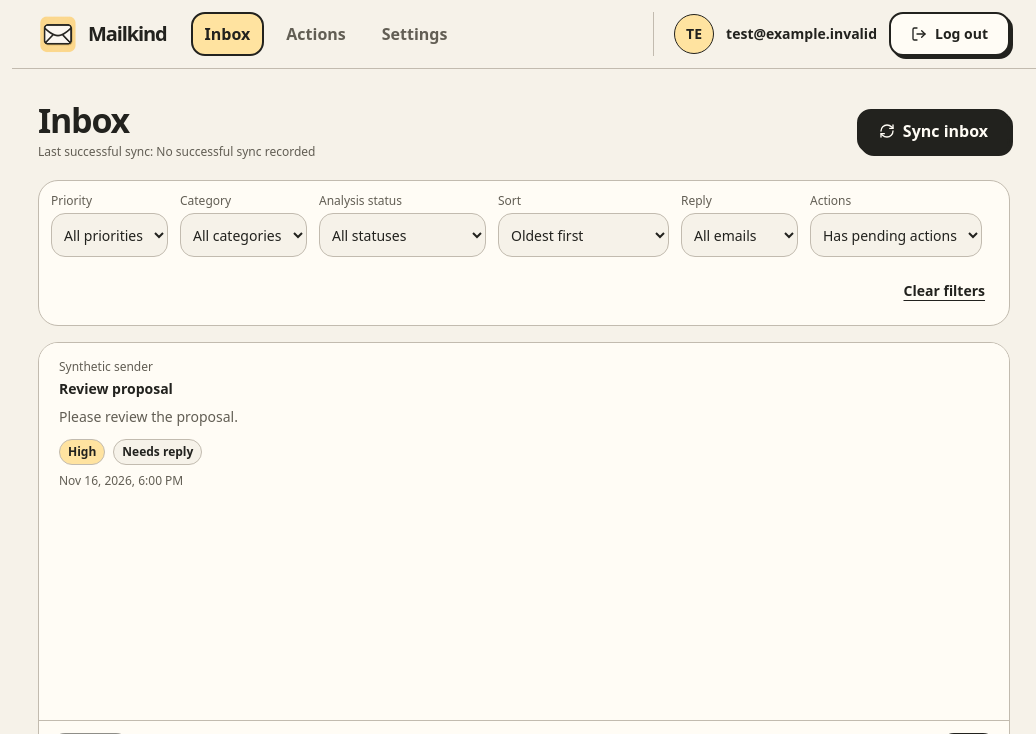
Test: preserves the pending action filter across other filters and pagination, then clears it
This screenshot has width=1036, height=734.
Expected: the text "Review proposal" is shown, [59,380,173,398]
Expected: the dropdown labelled "Actions" shows "Has pending actions", [810,214,982,258]
Select "Work" in the dropdown labelled "Category" at (244, 236), box [180,214,307,258]
(page scrolled)
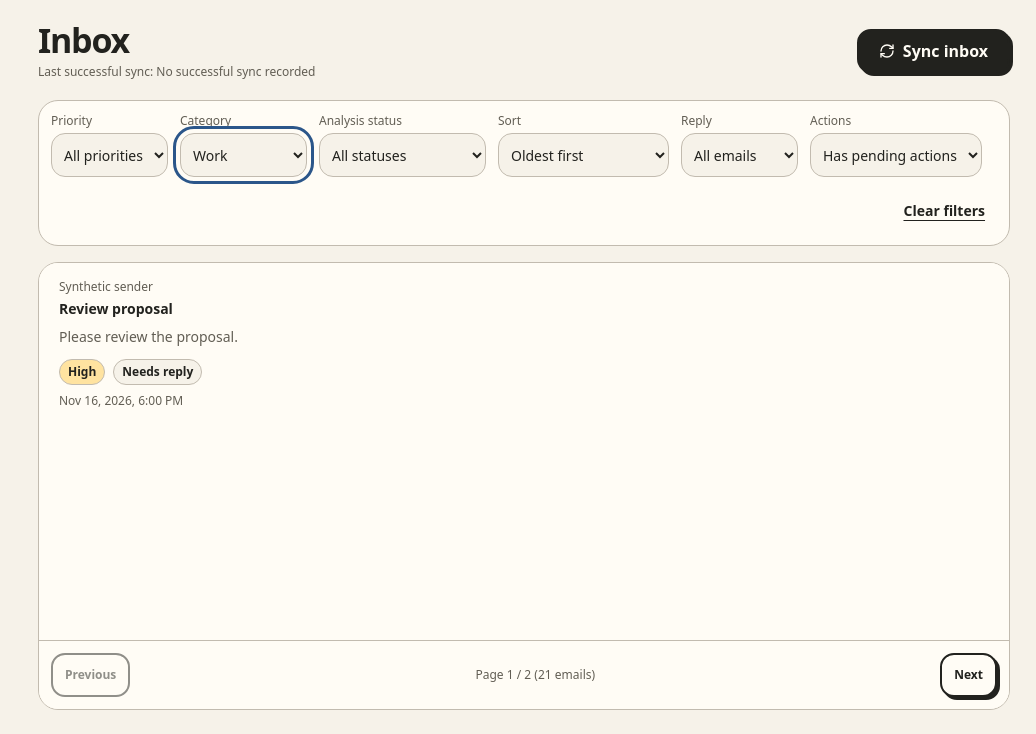
Click the button "Next" at (969, 676), box [940,654,997,698]
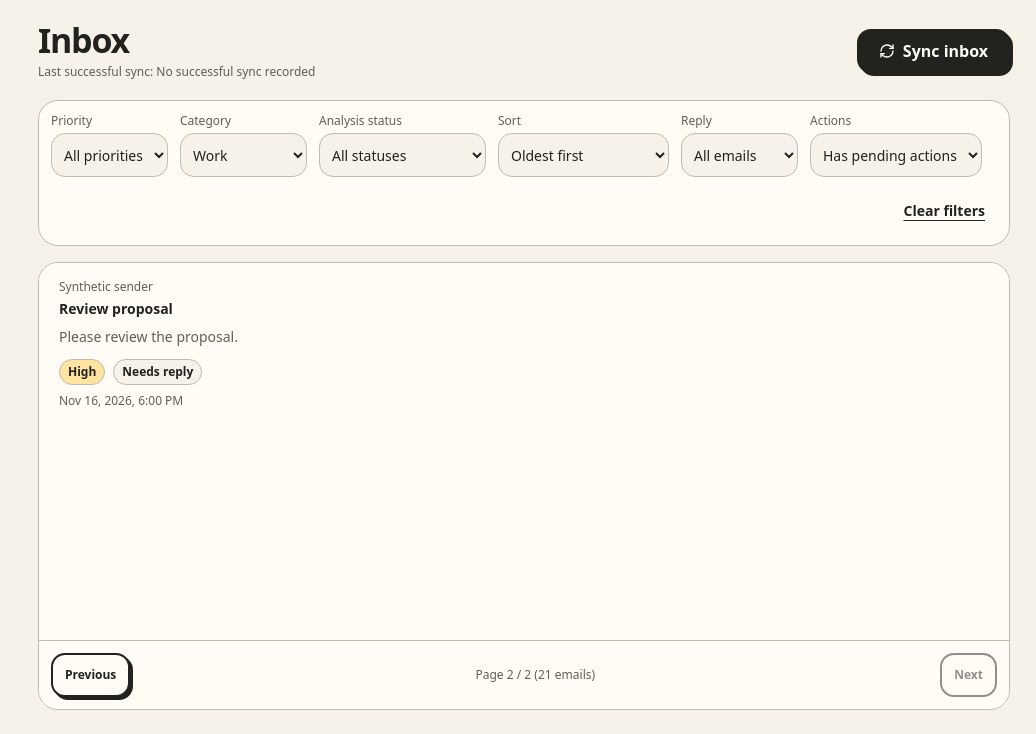
Click the button "Clear filters" at (944, 212), box [892,190,997,234]
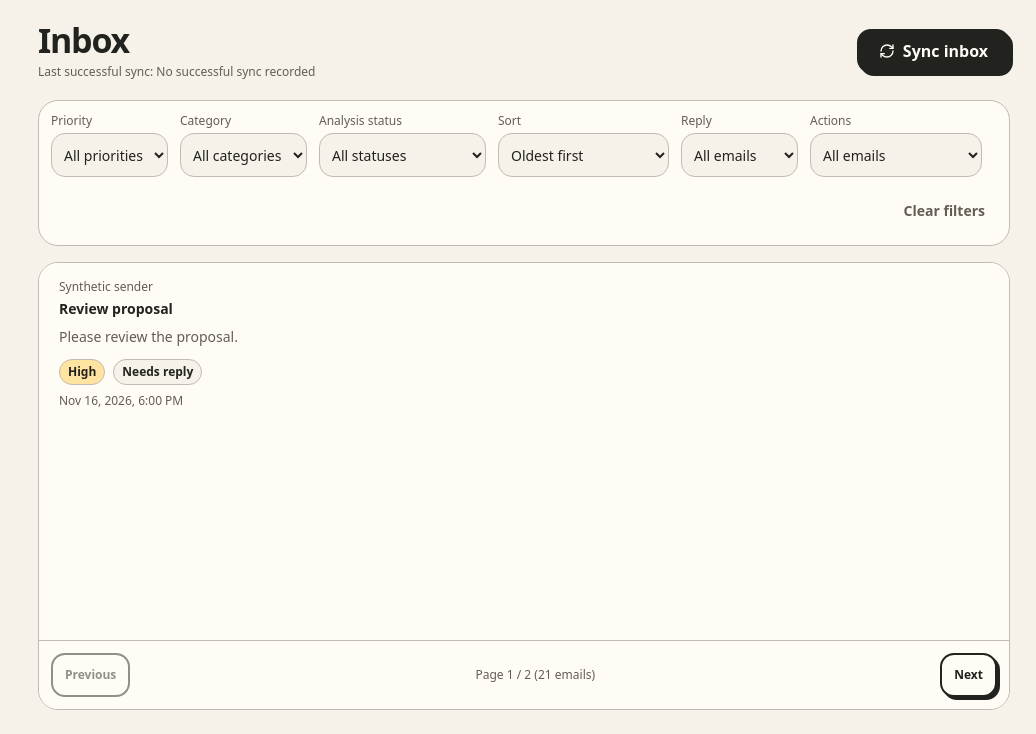
Result: the dropdown labelled "Actions" shows "All emails" at [810,134,982,178]
